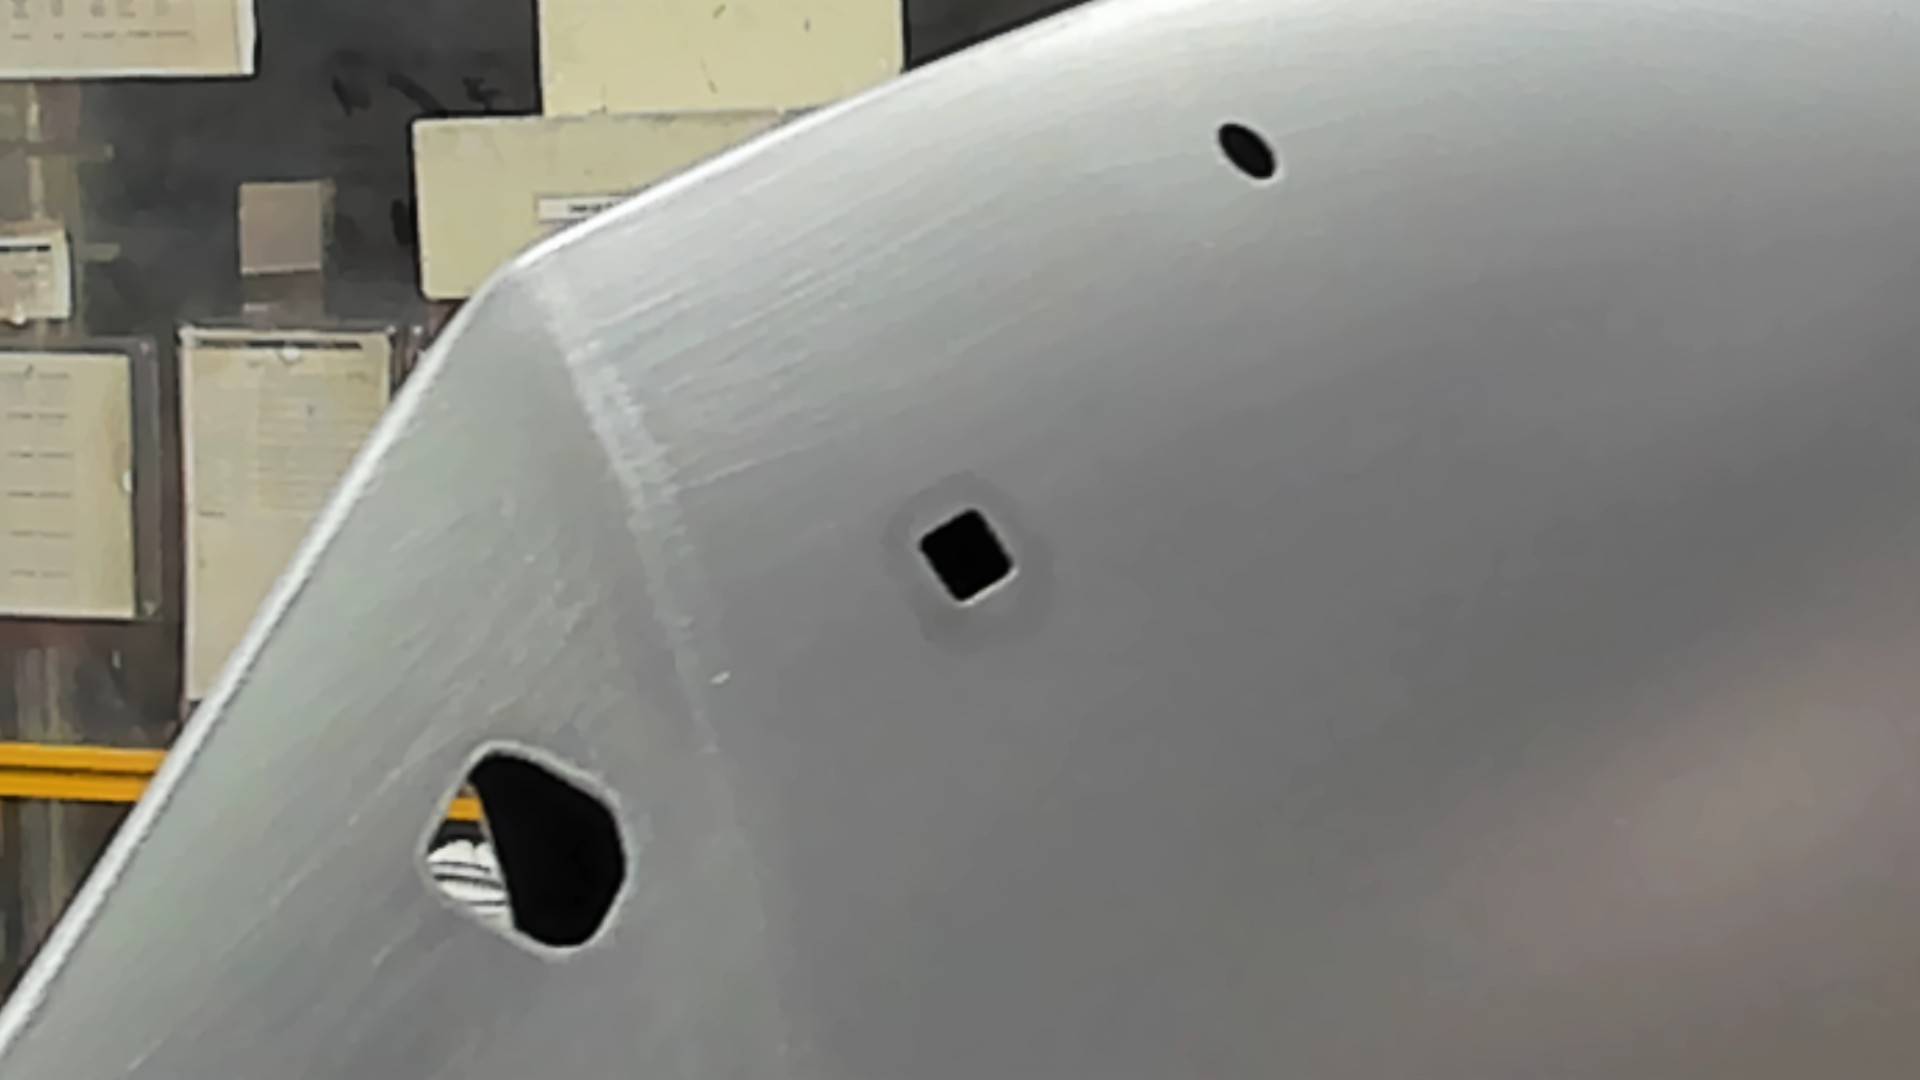chico: (1211, 117, 1287, 191)
grande: (411, 738, 642, 973)
mediano: (910, 501, 1025, 611)
